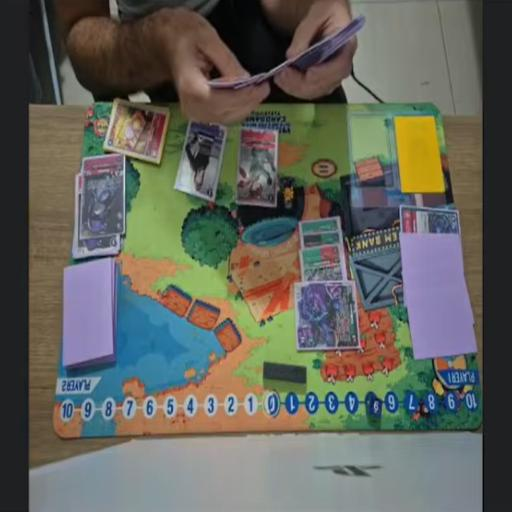card: (294, 281, 364, 351), (169, 121, 225, 204), (79, 148, 124, 240), (107, 101, 169, 165), (234, 120, 278, 206), (299, 239, 348, 287), (397, 210, 463, 239), (74, 232, 124, 260), (300, 228, 343, 251), (297, 216, 344, 234)
